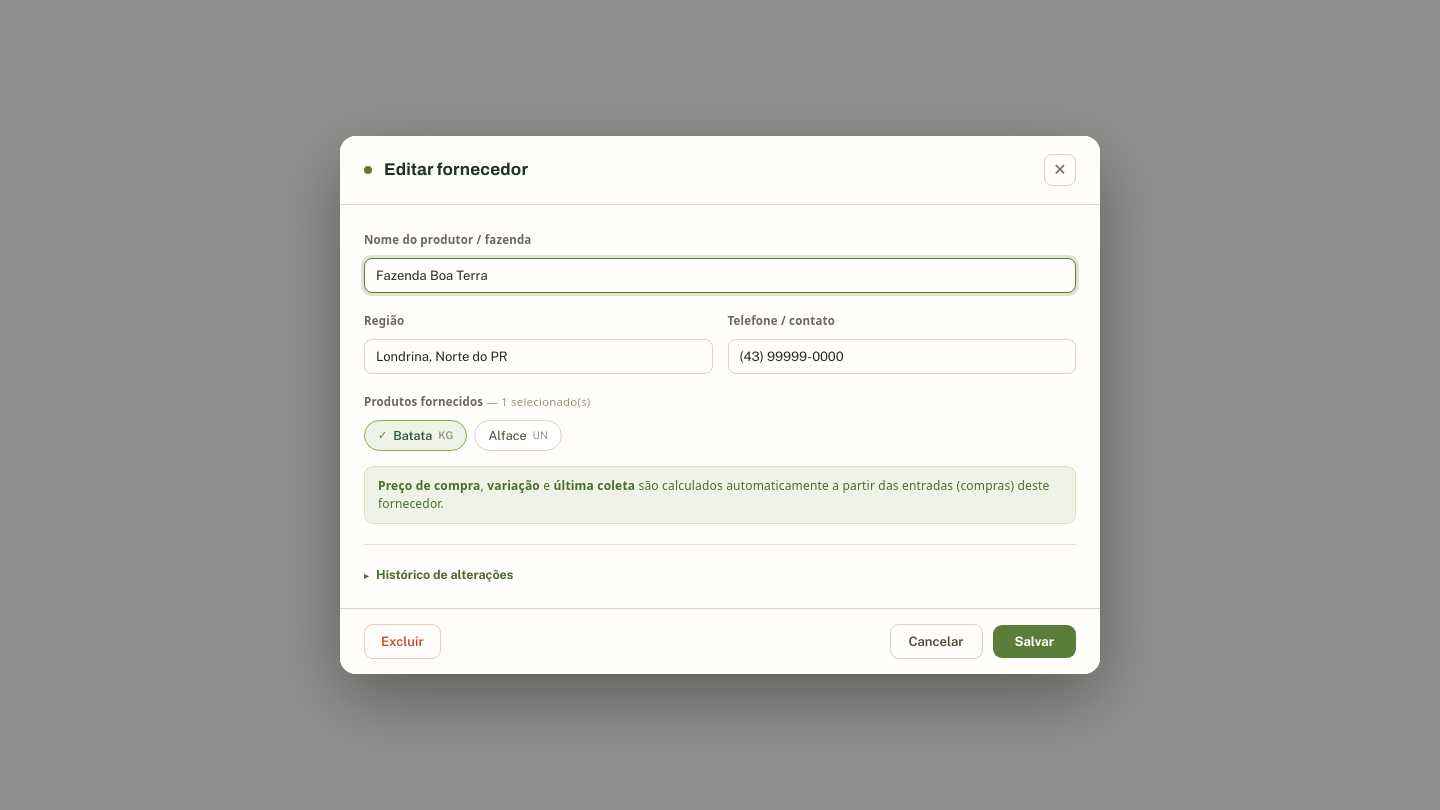
Test: ModalFornecedor — seleção de produtos › clicar de novo desmarca
Click the button "✓ Batata KG" at (416, 435), box [364,420,468,451]
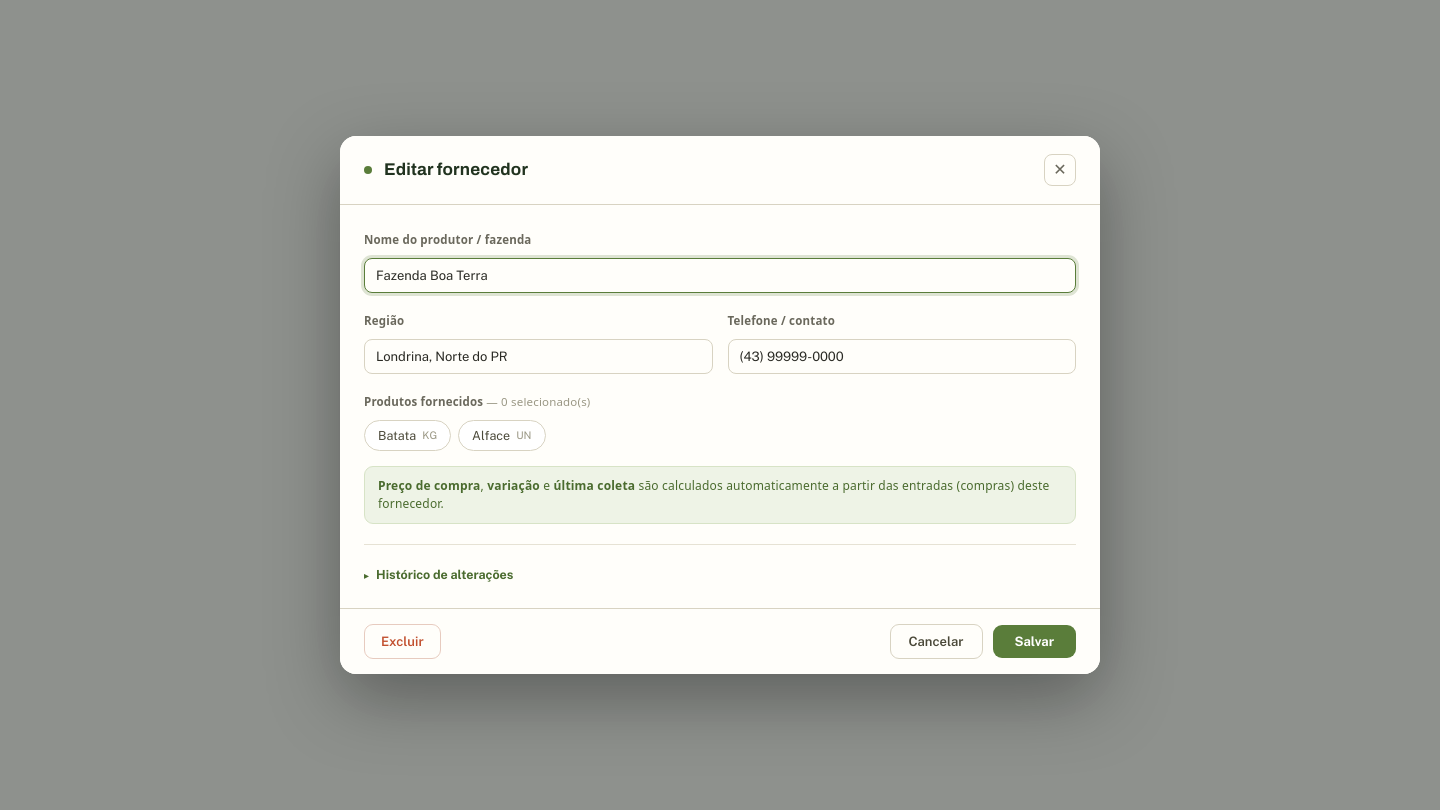
Now the text "— 0 selecionado(s)" is shown, box [486,394,590,409]
